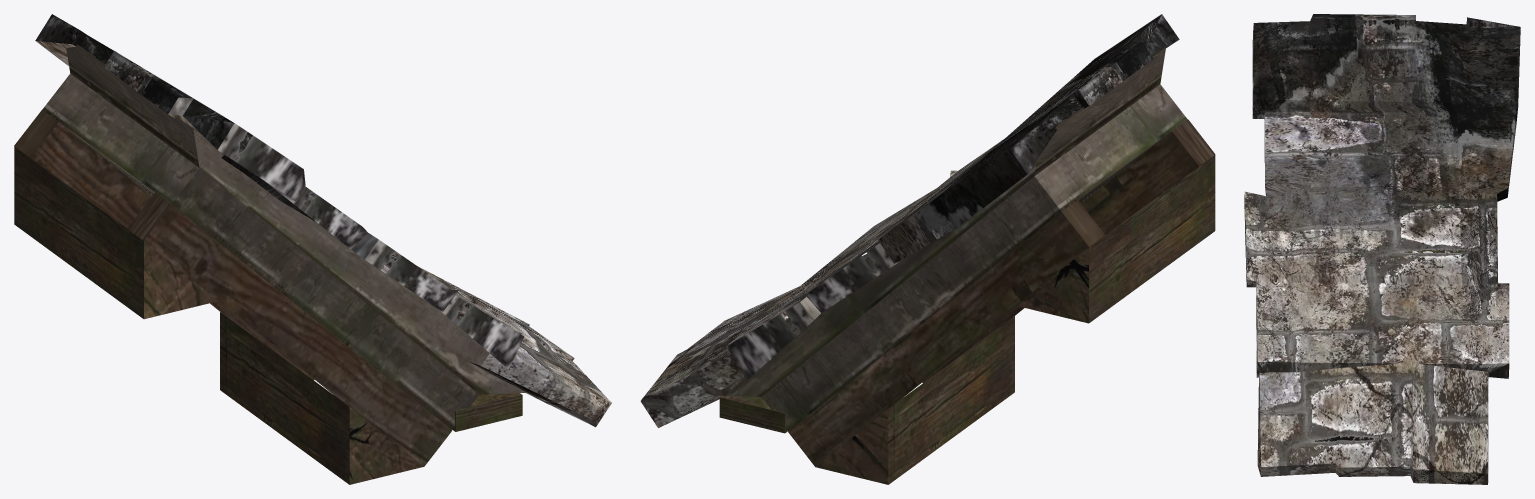
3 views of the same model, side by side, from view 1: azimuth 30°, elevation 25°; view 2: azimuth 150°, elevation 25°; view 3: azimuth 270°, elevation 25° (orthographic). The views are drawn at different scales.
Visible parts, largest first — view 1: SM_T3_Roof_Small_LOD0; view 2: SM_T3_Roof_Small_LOD0; view 3: SM_T3_Roof_Small_LOD0.
Boxes of the visible parts, x1,y1,x2,y2 form: SM_T3_Roof_Small_LOD0: [14, 14, 611, 484]; SM_T3_Roof_Small_LOD0: [640, 14, 1215, 484]; SM_T3_Roof_Small_LOD0: [1244, 14, 1520, 484].
Bounding box in the file's own units: 1.57 × 1.31 × 1.01.
Materials: 3 (3 with a texture image).
